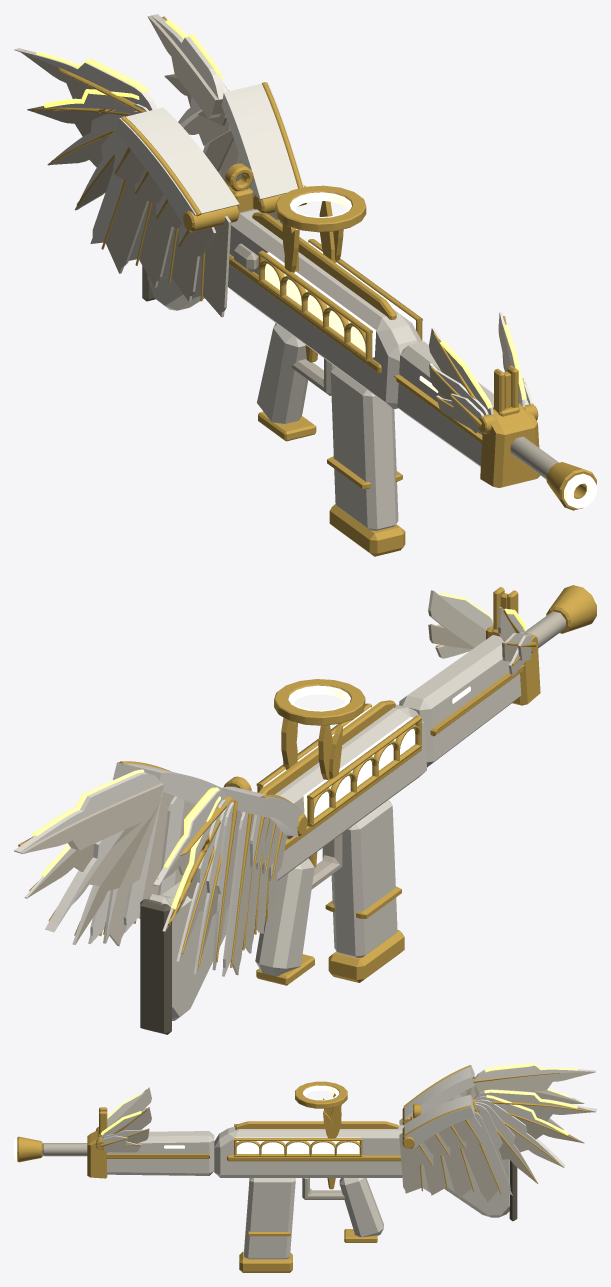
File: w_ar@ar_seraph.glb
3 renders of one model, top to bottom at view 1: azimuth 30°, elevation 25°; view 2: azimuth 150°, elevation 25°; view 3: azimuth 270°, elevation 25°, orthographic. The views are drawn at different scales.
Parts seen in each view (by area): view 1: stock_wzN__v2__pddd5c3, stock_wzN__arm__pece8de, body_wzA__shell__pddd8cc, mag_wzA__shell__pddd8cc, stock_wzN__v1__pf3eee3, body_wzN__gold__pcfa84a, stock_wzN__bone__pcfa84a, guard_wzN__gold__pcfa84a, crown_wzN__gold__pcfa84a, guard_wzA__shell__pddd8cc, grip_wzA__shell__pddd8cc, stock_wzN__v3__pc7bea9 (+15 smaller); view 2: stock_wzN__v1__pf3eee3, stock_wzN__v2__pddd5c3, mag_wzA__shell__pddd8cc, guard_wzA__shell__pddd8cc, body_wzA__shell__pddd8cc, body_wzN__gold__pcfa84a, grip_wzA__shell__pddd8cc, crown_wzN__gold__pcfa84a, stock_wzN__bone__pcfa84a, stock_wzB__dark__p6a6456, stock_wzA__shell__pddd8cc, stock_wzN__arm__pece8de (+14 smaller); view 3: stock_wzN__v2__pddd5c3, body_wzA__shell__pddd8cc, stock_wzN__v1__pf3eee3, mag_wzA__shell__pddd8cc, guard_wzA__shell__pddd8cc, body_wzN__gold__pcfa84a, stock_wzN__arm__pece8de, stock_wzN__bone__pcfa84a, grip_wzA__shell__pddd8cc, body_wzN__glow__nffe6a8, crown_wzN__gold__pcfa84a, guard_wzN__gold__pcfa84a (+13 smaller).
Boxes of the visible parts, <box> form: stock_wzN__v2__pddd5c3: <box>21,15,282,317</box>; stock_wzN__arm__pece8de: <box>115,82,303,227</box>; body_wzA__shell__pddd8cc: <box>228,209,422,409</box>; mag_wzA__shell__pddd8cc: <box>330,366,398,530</box>; stock_wzN__v1__pf3eee3: <box>14,14,253,298</box>; body_wzN__gold__pcfa84a: <box>229,212,422,373</box>; stock_wzN__bone__pcfa84a: <box>25,16,306,301</box>; guard_wzN__gold__pcfa84a: <box>394,374,540,487</box>; crown_wzN__gold__pcfa84a: <box>275,185,366,272</box>; guard_wzA__shell__pddd8cc: <box>397,341,493,466</box>; grip_wzA__shell__pddd8cc: <box>257,323,307,423</box>; stock_wzN__v3__pc7bea9: <box>27,76,233,210</box>; stock_wzN__v1__pf3eee3: <box>14,772,274,976</box>; stock_wzN__v2__pddd5c3: <box>14,783,286,975</box>; mag_wzA__shell__pddd8cc: <box>331,800,397,957</box>; guard_wzA__shell__pddd8cc: <box>399,635,521,767</box>; body_wzA__shell__pddd8cc: <box>275,704,426,880</box>; body_wzN__gold__pcfa84a: <box>256,700,421,850</box>; grip_wzA__shell__pddd8cc: <box>255,858,314,976</box>; crown_wzN__gold__pcfa84a: <box>274,679,365,779</box>; stock_wzN__bone__pcfa84a: <box>18,761,307,967</box>; stock_wzB__dark__p6a6456: <box>140,899,171,1034</box>; stock_wzA__shell__pddd8cc: <box>148,881,229,1020</box>; stock_wzN__arm__pece8de: <box>113,762,302,837</box>; stock_wzN__v2__pddd5c3: <box>399,1072,596,1202</box>; body_wzA__shell__pddd8cc: <box>214,1125,404,1177</box>; stock_wzN__v1__pf3eee3: <box>420,1065,596,1195</box>; mag_wzA__shell__pddd8cc: <box>244,1178,295,1259</box>; guard_wzA__shell__pddd8cc: <box>107,1131,214,1175</box>; body_wzN__gold__pcfa84a: <box>227,1121,401,1161</box>; stock_wzN__arm__pece8de: <box>404,1065,474,1147</box>; stock_wzN__bone__pcfa84a: <box>402,1065,589,1193</box>; grip_wzA__shell__pddd8cc: <box>339,1178,383,1237</box>; body_wzN__glow__nffe6a8: <box>235,1137,360,1153</box>; crown_wzN__gold__pcfa84a: <box>295,1081,347,1138</box>; guard_wzN__gold__pcfa84a: <box>87,1130,209,1178</box>.
Bounding box in the file's own units: 0.2444 × 0.5036 × 1.39.
